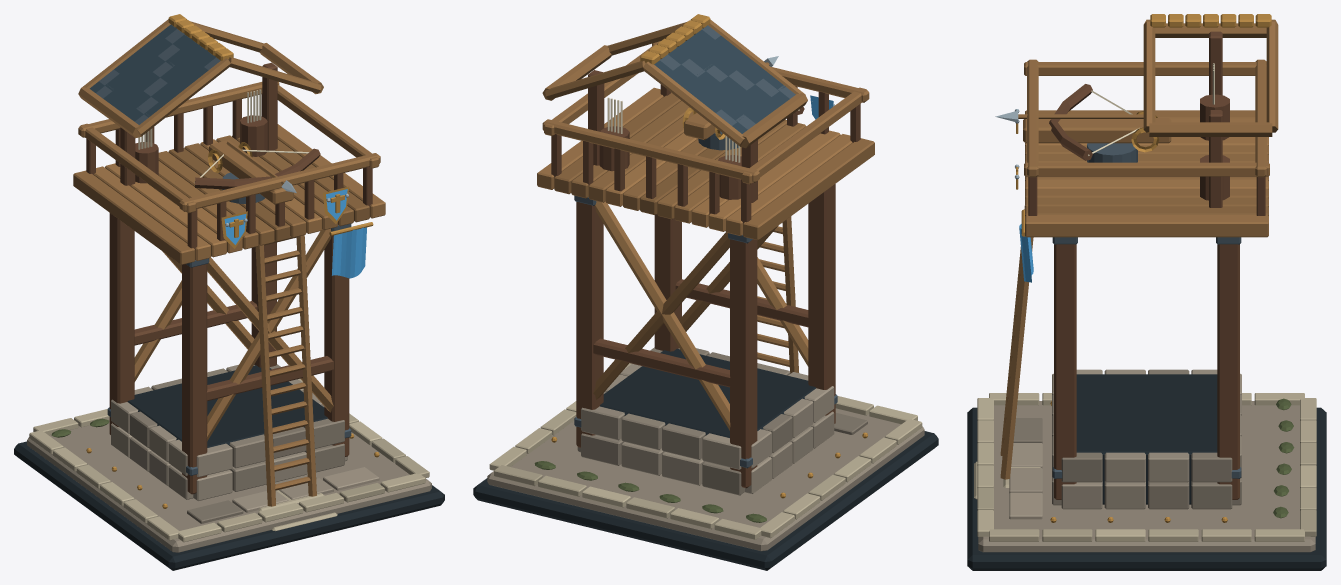
File: archer__francoatiradora__L15.glb
The picture shows the model from 3 angles, left to right: view 1: azimuth 30°, elevation 25°; view 2: azimuth 150°, elevation 25°; view 3: azimuth 270°, elevation 25°; orthographic projection. The views are drawn at different scales.
Parts seen in each view (by area): view 1: structure, weapon, banners; view 2: structure, weapon; view 3: structure, weapon, banners.
Part boxes in pixels (bbox=[...]): structure: bbox=[14, 14, 444, 570]; weapon: bbox=[194, 140, 320, 204]; banners: bbox=[329, 222, 373, 278]; structure: bbox=[473, 14, 938, 570]; weapon: bbox=[682, 56, 804, 150]; structure: bbox=[967, 14, 1326, 570]; weapon: bbox=[995, 84, 1171, 162]; banners: bbox=[1019, 209, 1033, 282].
Bounding box in the file's own units: 0.803 × 1.19 × 0.803.
